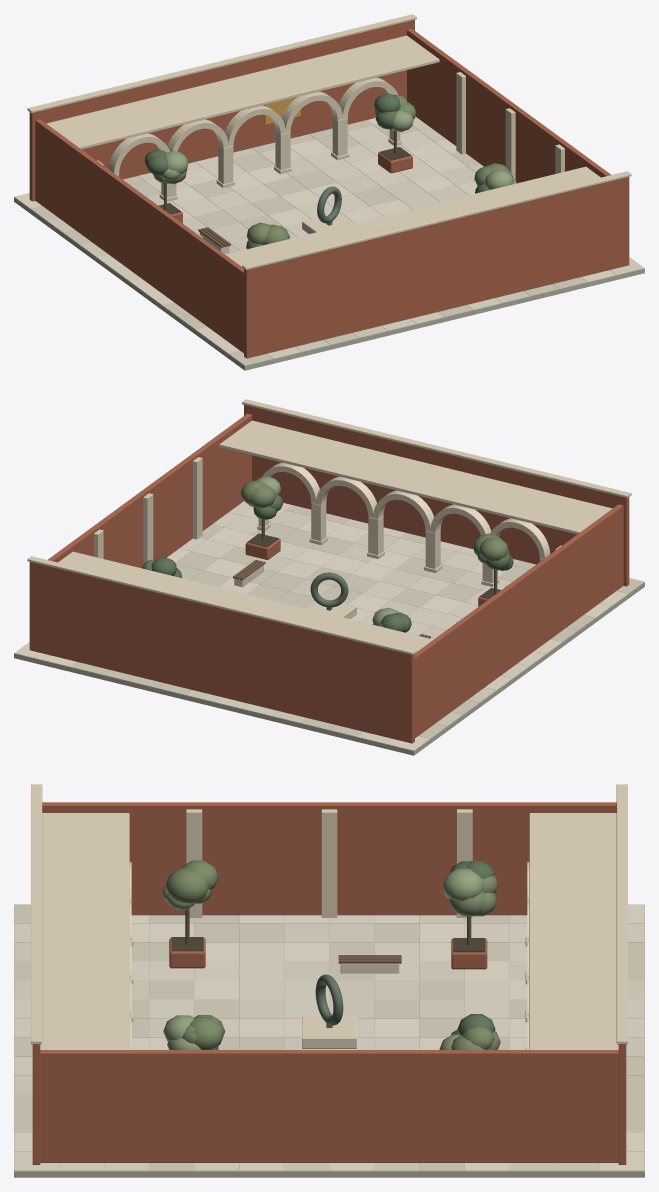
3 views of the same model, one above another, from view 1: azimuth 30°, elevation 25°; view 2: azimuth 150°, elevation 25°; view 3: azimuth 270°, elevation 25° (orthographic). The views are drawn at different scales.
Parts seen in each view (by area): view 1: LocusForge courtyard; view 2: LocusForge courtyard; view 3: LocusForge courtyard.
Boxes of the visible parts, x1=… form: LocusForge courtyard: x1=14, y1=14, x2=644, y2=370; LocusForge courtyard: x1=14, y1=399, x2=644, y2=755; LocusForge courtyard: x1=14, y1=784, x2=644, y2=1177.
Size of the model in its own units: 28 by 6.45 by 28.
